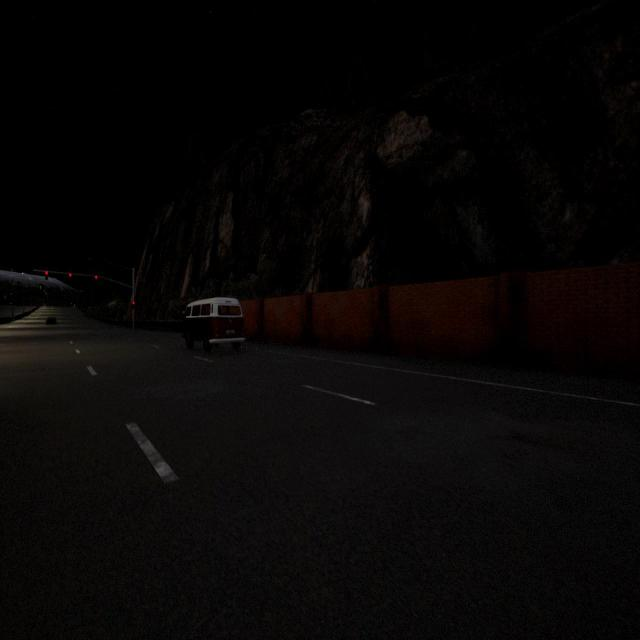Vehicle: (183, 297, 245, 352), (46, 317, 57, 326)
traffic_light: (45, 270, 48, 280), (132, 300, 135, 309), (69, 272, 72, 280), (95, 275, 98, 282)
